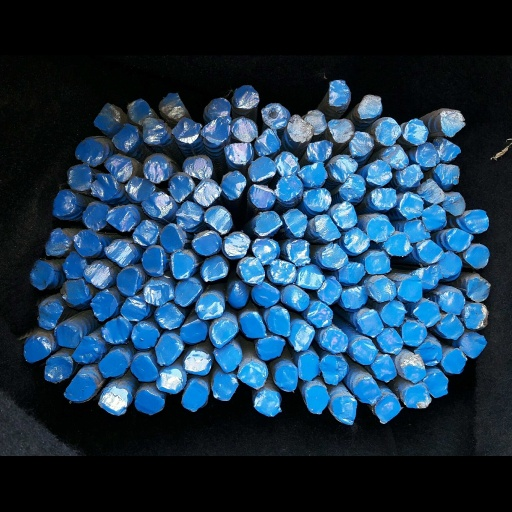dipstick: (63, 374, 97, 401), (237, 361, 268, 390), (320, 354, 349, 385), (155, 333, 183, 365), (72, 336, 105, 363), (141, 191, 173, 218), (213, 343, 242, 372), (74, 138, 104, 166), (90, 291, 118, 321), (98, 387, 127, 415), (210, 319, 238, 348), (99, 350, 129, 377), (60, 279, 91, 305), (143, 280, 174, 306), (93, 103, 121, 131), (193, 179, 221, 207), (143, 155, 172, 182), (130, 354, 159, 381), (201, 117, 230, 144), (287, 114, 314, 143), (329, 155, 358, 182), (374, 117, 401, 146), (154, 303, 184, 329), (104, 241, 134, 267), (160, 223, 186, 253), (182, 381, 208, 411), (212, 371, 238, 401), (319, 243, 349, 269), (191, 230, 222, 255), (44, 356, 72, 383), (176, 201, 203, 229), (252, 238, 280, 265), (275, 174, 303, 201), (368, 275, 396, 302), (83, 263, 112, 289), (331, 396, 357, 425), (29, 259, 53, 290), (182, 155, 213, 179), (112, 124, 139, 151), (82, 203, 109, 230), (23, 336, 50, 363), (254, 128, 281, 155), (314, 214, 341, 241), (104, 156, 132, 182), (44, 228, 70, 256), (101, 318, 129, 344), (131, 322, 159, 348), (169, 174, 195, 202), (252, 281, 280, 307), (248, 156, 276, 182), (339, 174, 365, 202), (377, 327, 403, 355), (106, 207, 135, 232), (254, 211, 283, 236), (261, 103, 290, 128), (134, 390, 164, 414), (203, 208, 230, 234), (174, 280, 201, 306), (254, 390, 281, 416), (240, 311, 266, 338), (282, 285, 309, 311), (371, 355, 397, 382), (351, 338, 377, 365), (357, 310, 383, 337), (366, 216, 393, 242), (413, 301, 440, 327), (460, 332, 487, 358), (38, 302, 63, 330), (172, 118, 200, 143), (221, 171, 246, 199), (289, 323, 314, 351), (354, 379, 382, 404), (401, 354, 426, 382), (142, 247, 166, 276), (298, 162, 327, 186), (283, 208, 307, 237), (305, 385, 329, 414), (416, 239, 445, 263), (268, 305, 290, 336), (73, 230, 99, 256), (375, 394, 401, 420), (438, 313, 464, 339), (91, 174, 118, 199), (120, 296, 147, 321), (196, 294, 223, 319), (201, 256, 228, 281), (180, 319, 207, 344), (184, 350, 211, 375), (249, 184, 276, 209), (297, 264, 324, 289), (328, 118, 355, 143), (440, 110, 465, 137), (415, 341, 442, 366), (433, 137, 461, 161), (417, 179, 445, 203), (256, 337, 285, 360), (142, 117, 167, 143), (132, 220, 158, 245), (158, 93, 184, 118), (239, 257, 264, 283), (322, 328, 348, 353), (307, 302, 333, 327), (316, 278, 341, 304), (366, 160, 392, 185), (403, 119, 428, 145), (382, 145, 409, 169), (170, 251, 193, 279), (403, 385, 431, 408), (349, 131, 374, 156), (421, 204, 446, 229), (402, 321, 427, 346), (463, 303, 488, 328), (127, 98, 151, 124), (67, 164, 91, 190), (62, 252, 86, 278), (224, 234, 250, 258), (275, 151, 299, 177), (270, 260, 296, 284), (333, 202, 357, 228), (399, 192, 423, 218), (398, 276, 422, 302), (439, 291, 465, 315), (127, 177, 154, 200), (53, 189, 76, 216), (226, 281, 249, 308), (304, 188, 331, 211), (286, 239, 309, 266), (446, 228, 473, 251), (116, 267, 138, 295), (298, 353, 320, 381), (232, 118, 257, 142), (344, 228, 369, 252), (415, 142, 439, 167), (424, 372, 448, 397), (437, 252, 462, 276), (464, 244, 489, 268), (233, 85, 259, 108), (304, 109, 327, 135), (397, 164, 423, 187), (381, 300, 404, 326), (384, 233, 411, 255), (224, 143, 252, 164), (358, 94, 382, 118), (465, 209, 489, 233), (466, 277, 490, 301), (443, 349, 466, 374), (156, 372, 182, 394), (275, 365, 297, 391), (341, 286, 367, 308), (404, 220, 430, 242), (55, 325, 79, 348), (307, 140, 332, 162), (365, 252, 390, 274), (339, 262, 365, 283), (328, 80, 349, 106), (420, 265, 442, 289), (444, 191, 465, 216), (206, 98, 231, 118), (371, 188, 396, 208), (436, 164, 459, 185)
